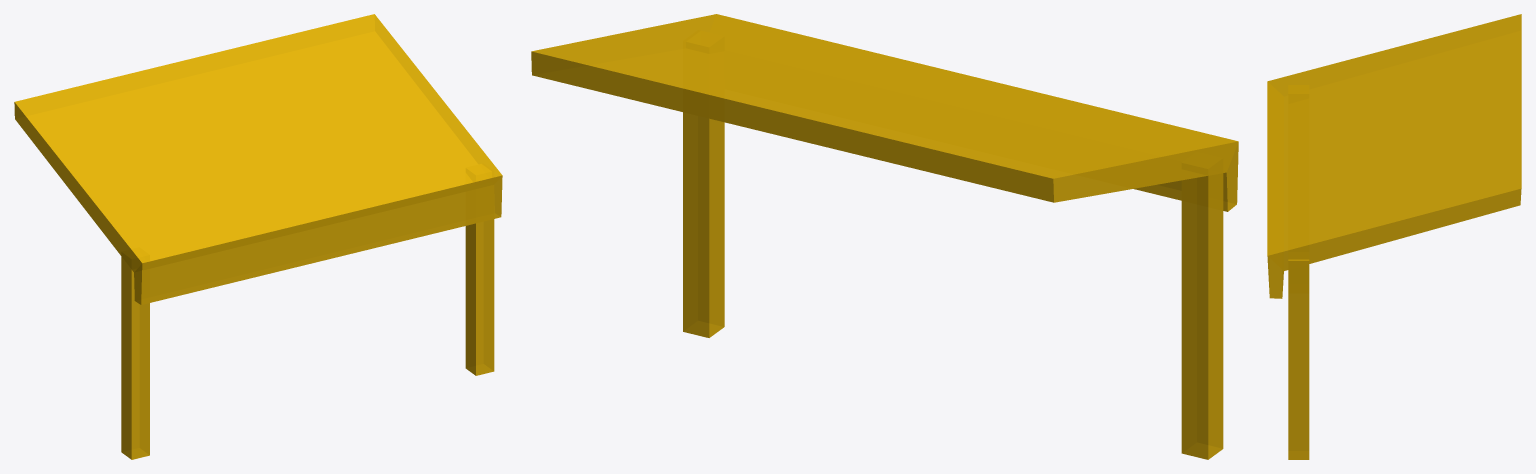
The model's file is SM_Bld_Canopy_02_Collision.fbx.
3 views of the same model, side by side, from view 1: azimuth 30°, elevation 25°; view 2: azimuth 150°, elevation 25°; view 3: azimuth 270°, elevation 25° (orthographic). The views are drawn at different scales.
Parts seen in each view (by area): view 1: SM_Bld_Canopy_02_Collision; view 2: SM_Bld_Canopy_02_Collision; view 3: SM_Bld_Canopy_02_Collision.
Part boxes in pixels (<box>): SM_Bld_Canopy_02_Collision: <box>14,14,502,459</box>; SM_Bld_Canopy_02_Collision: <box>531,14,1238,459</box>; SM_Bld_Canopy_02_Collision: <box>1267,14,1521,459</box>.
Bounding box in the file's own units: 465 × 334 × 285.
